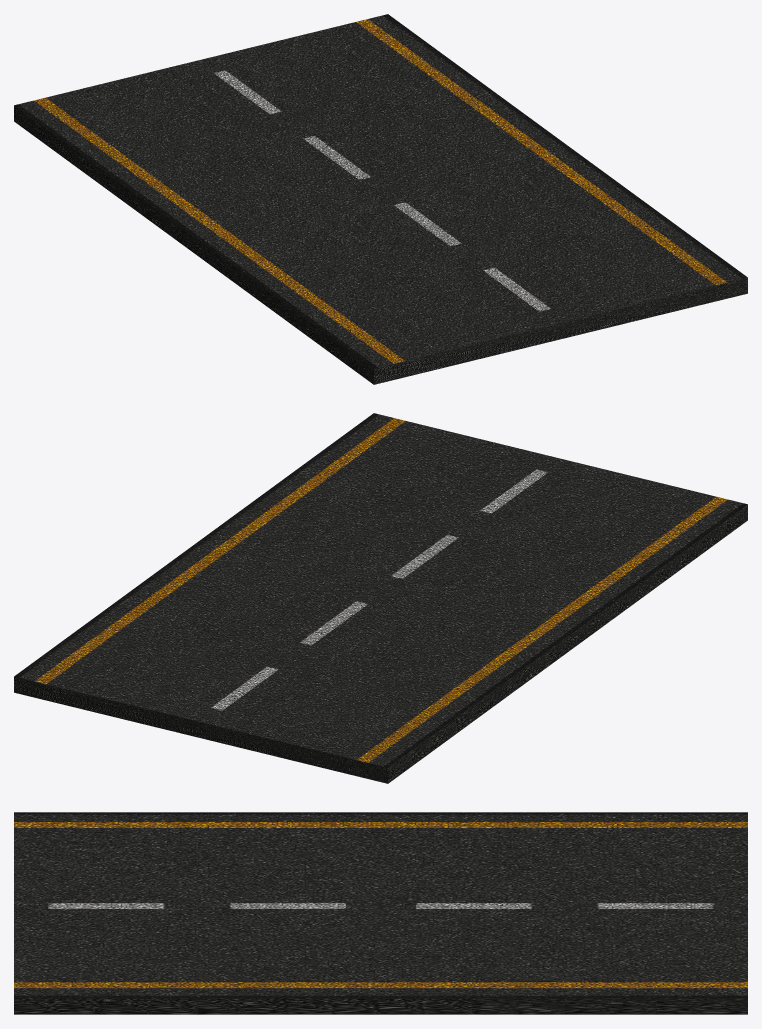
The model's file is road5M.fbx.
3 renders of one model, top to bottom at view 1: azimuth 30°, elevation 25°; view 2: azimuth 150°, elevation 25°; view 3: azimuth 270°, elevation 25°, orthographic.
Visible parts, largest first — view 1: road; view 2: road; view 3: road.
Part boxes in pixels (left/top/right/bottom): road: left=14, top=14, right=747, bottom=384; road: left=14, top=413, right=747, bottom=783; road: left=14, top=812, right=747, bottom=1014.
Bounding box in the file's own units: 300 × 12.34 × 500.
Materials: 1 (1 with a texture image).
